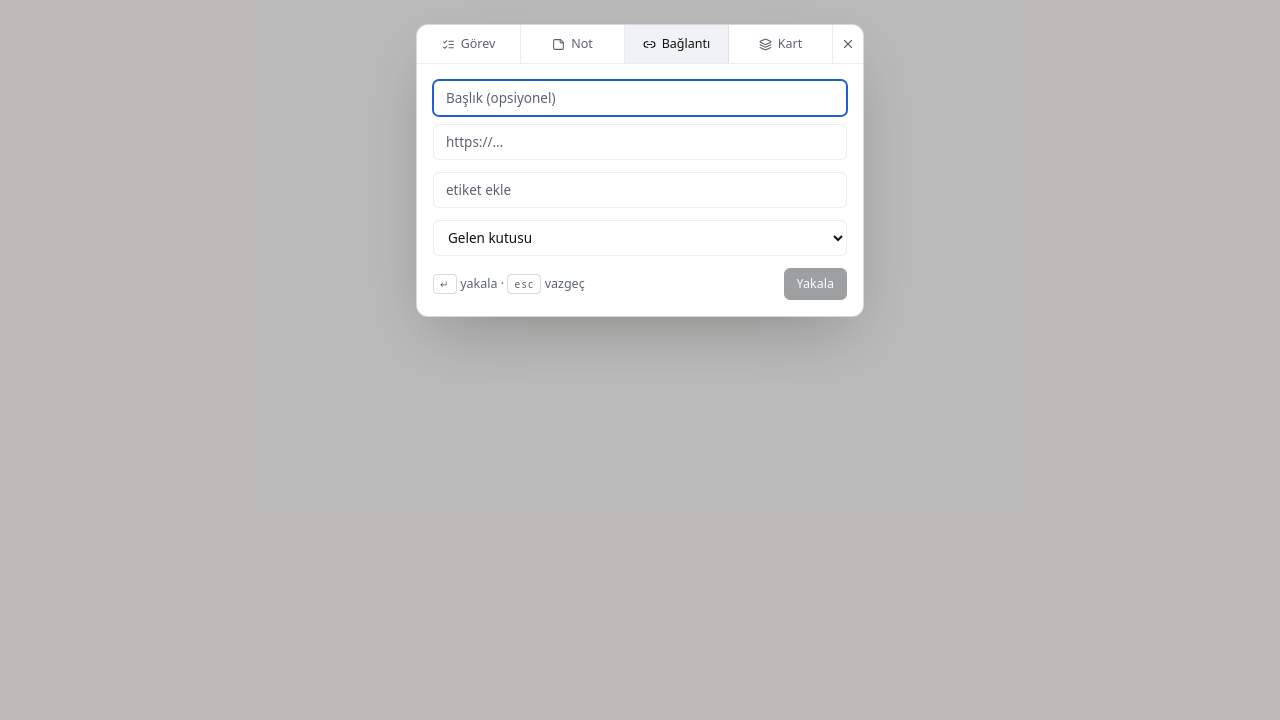
Test case: CaptureDialog (Faz 22/29) › baglanti icin baslik tek basina yetmez; gecerli HTTP(S) adresi zorunludur
This screenshot has width=1280, height=720.
Type "Sadece başlık" into the field named "Bağlantı başlığı" at [640, 98], box [433,80,847,116]
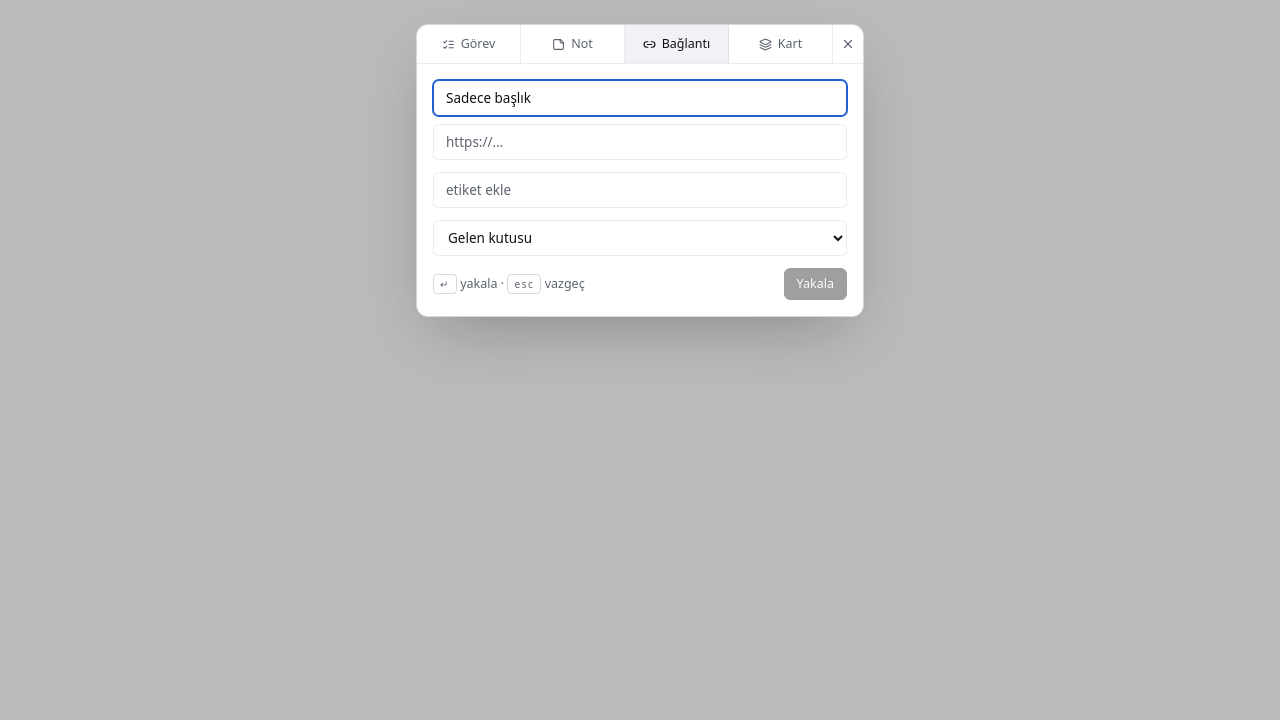
Expected: the button "Yakala" is disabled, [784,268,847,300]
Type "javascript:alert(1)" into the field named "Bağlantı adresi" at [640, 142], box [433,124,847,160]
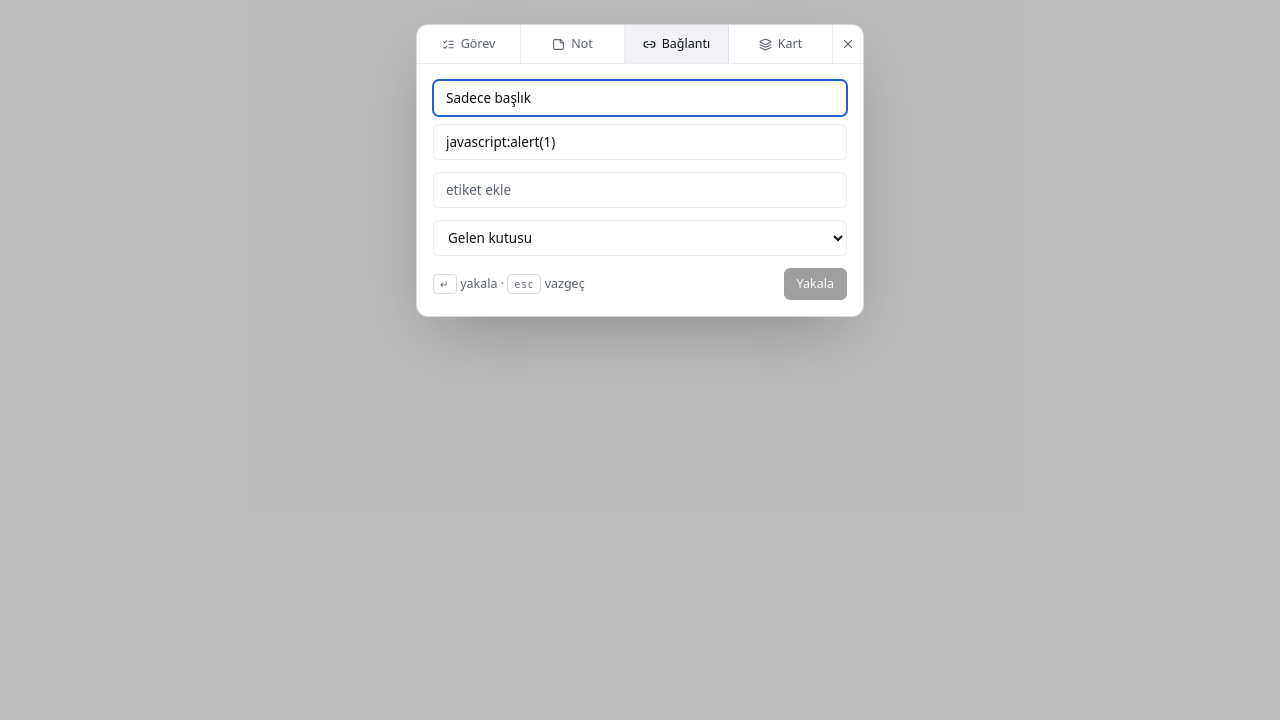
Expected: the button "Yakala" is disabled, [784,268,847,300]
Replace the text in the field named "Bağlantı adresi" with "https://example.com" at [640, 142], box [433,124,847,160]
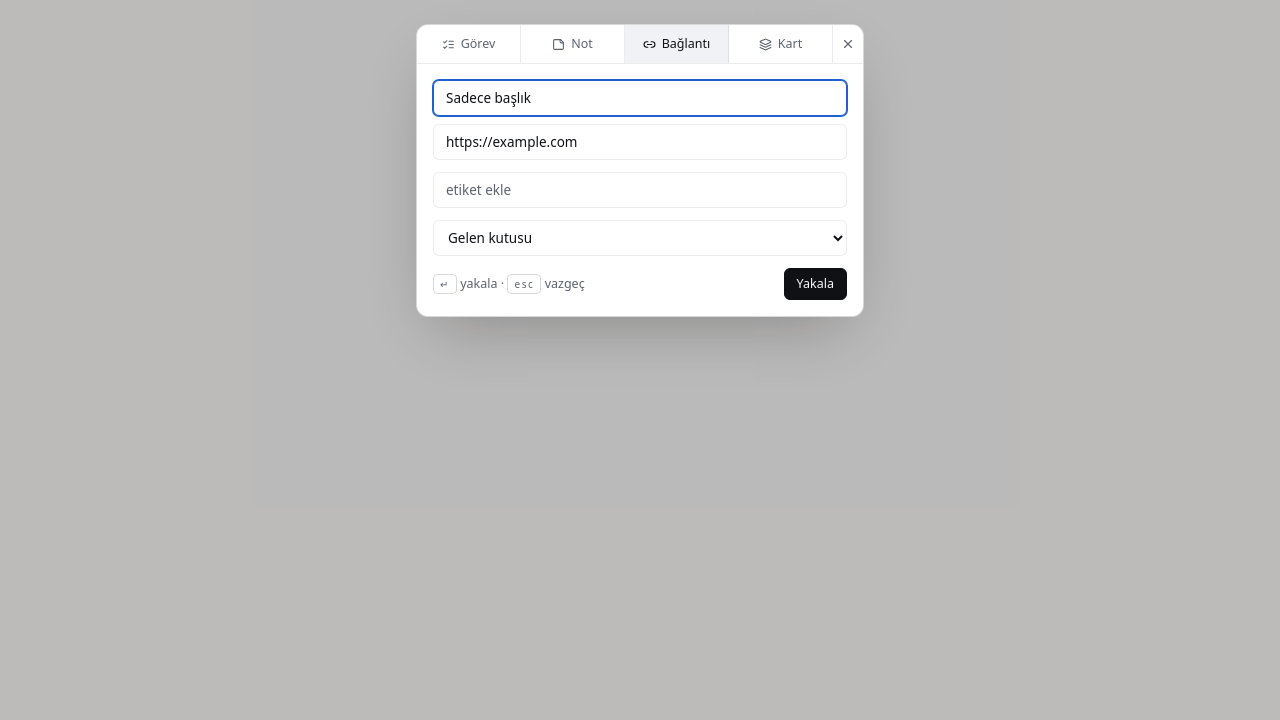
Expected: the button "Yakala" is enabled, [784,268,847,300]
